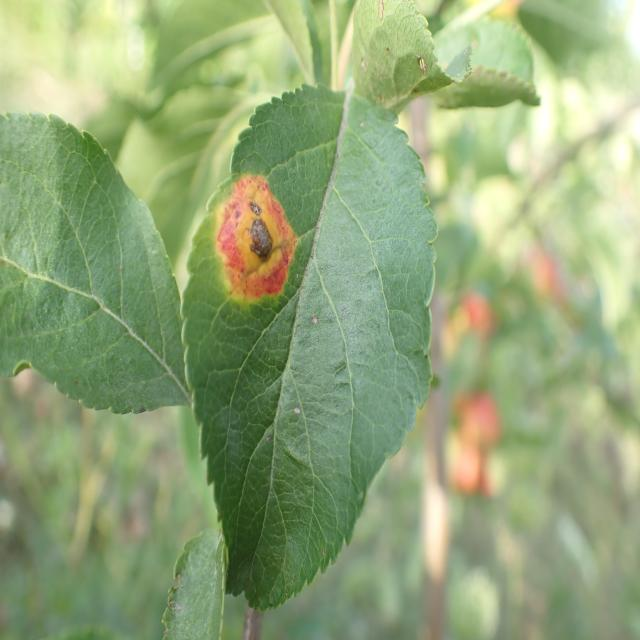Rust: (210, 122, 306, 349)
